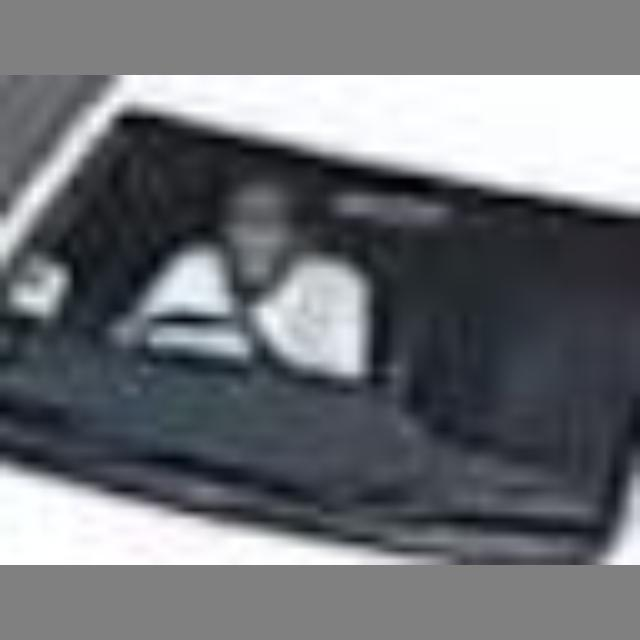pakai: (120, 185, 360, 425)
